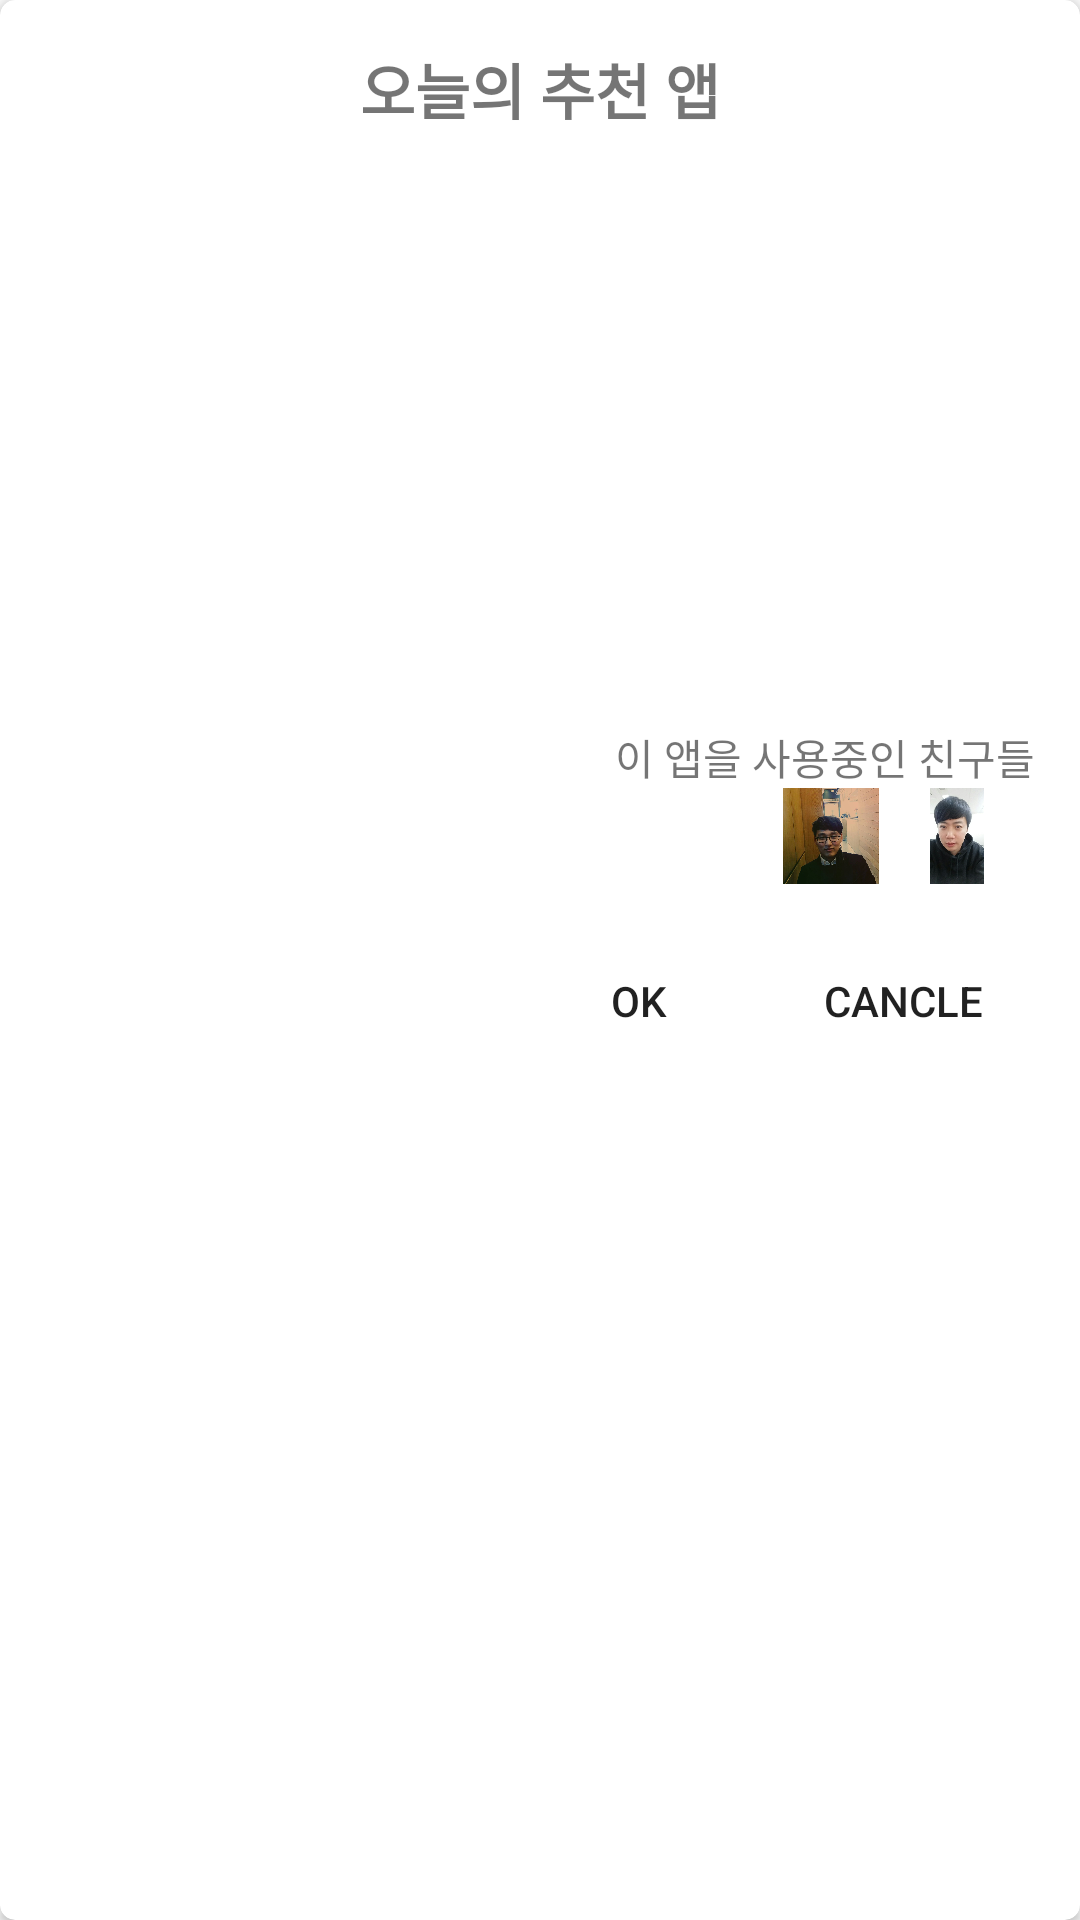

Screen size 1080 × 1920. Icon name, then its center in pixels as (x=x, y=y):
user: (x=831, y=836), (x=957, y=836)
